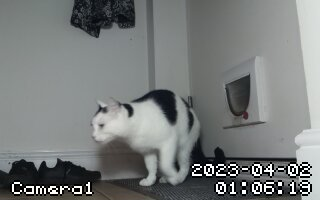bad: (88, 89, 220, 196)
